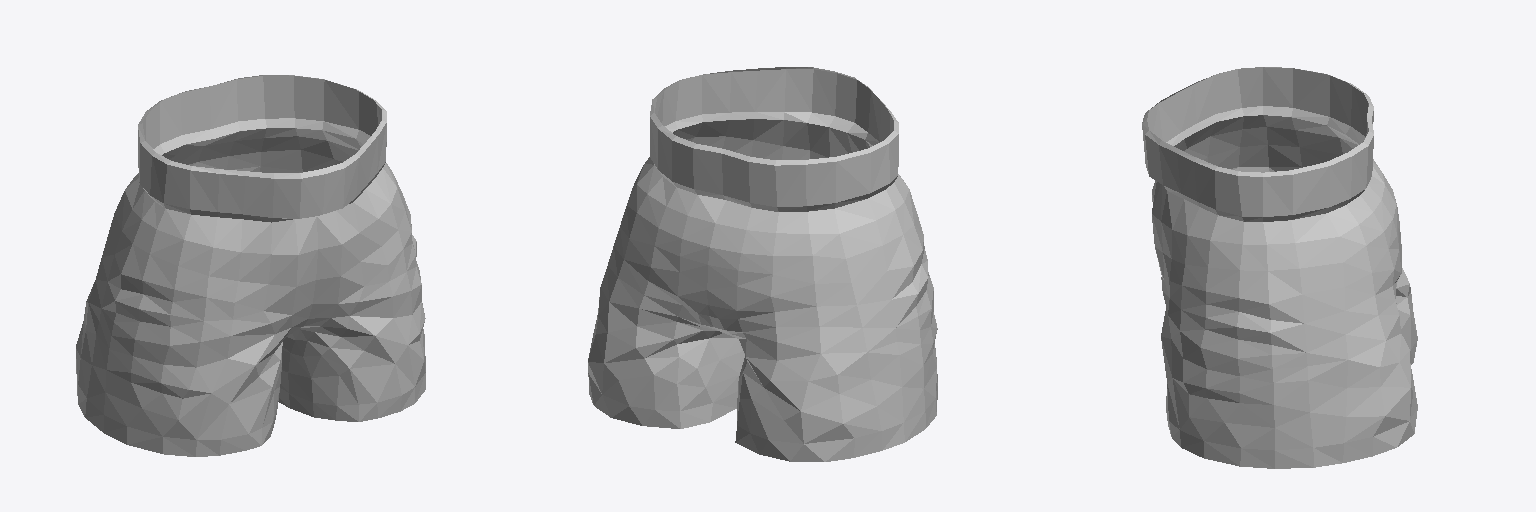
The model's file is MacShort_torso2.obj.
3 renders of one model, left to right at view 1: azimuth 30°, elevation 25°; view 2: azimuth 150°, elevation 25°; view 3: azimuth 270°, elevation 25°, orthographic.
Parts seen in each view (by area): view 1: node_Mesh_166_mesh_mesh0; view 2: node_Mesh_166_mesh_mesh0; view 3: node_Mesh_166_mesh_mesh0.
Part boxes in pixels (bbox=[...]): node_Mesh_166_mesh_mesh0: bbox=[76, 75, 425, 456]; node_Mesh_166_mesh_mesh0: bbox=[588, 67, 937, 461]; node_Mesh_166_mesh_mesh0: bbox=[1142, 67, 1417, 468].
Size of the model in its own units: 0.705 by 0.6021 by 0.5432.